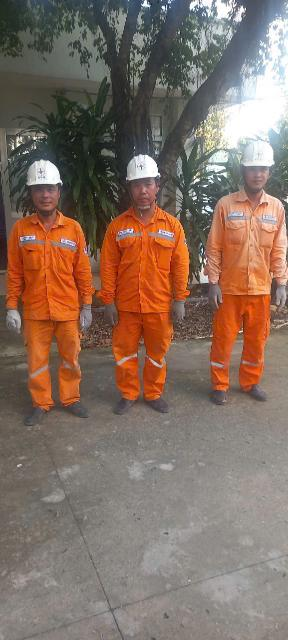gloves: (73, 299, 103, 326), (167, 298, 198, 324), (4, 308, 29, 339), (102, 297, 126, 326), (203, 280, 224, 313), (273, 278, 288, 315)
helmet: (231, 133, 283, 179), (19, 156, 65, 203), (125, 148, 161, 182)
shoes: (106, 394, 142, 420), (21, 401, 50, 429), (242, 381, 268, 409), (58, 396, 89, 419), (147, 391, 170, 422), (207, 380, 227, 409)
